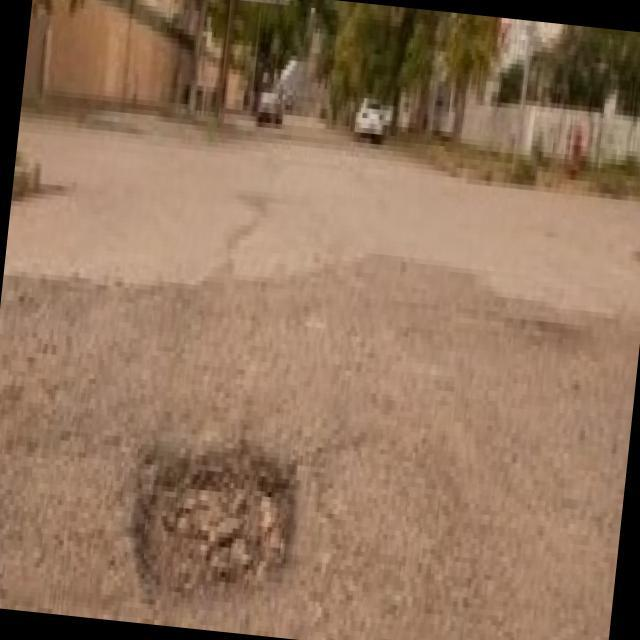Pothole: (118, 431, 300, 628)
